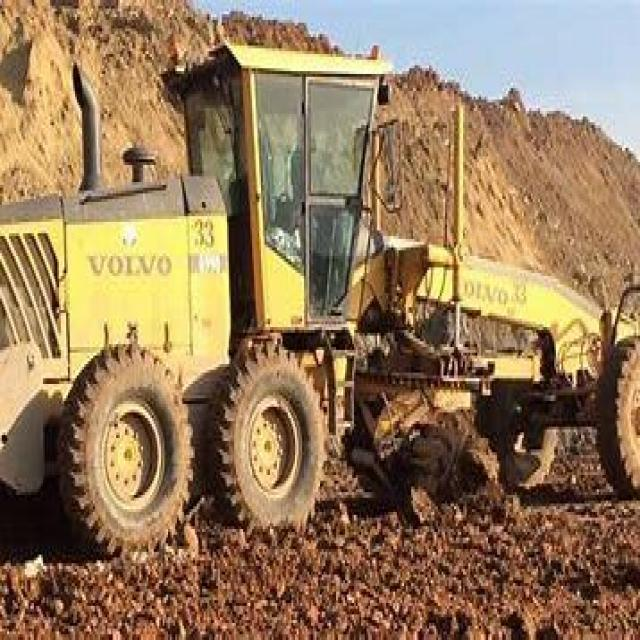Grader: (4, 40, 638, 546)
